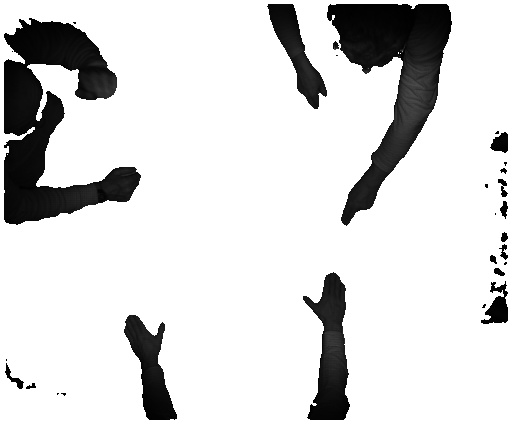fist: (107, 160, 143, 207), (76, 70, 119, 103)
hand: (296, 272, 351, 329), (336, 176, 380, 231), (124, 312, 167, 363), (288, 64, 327, 111)
